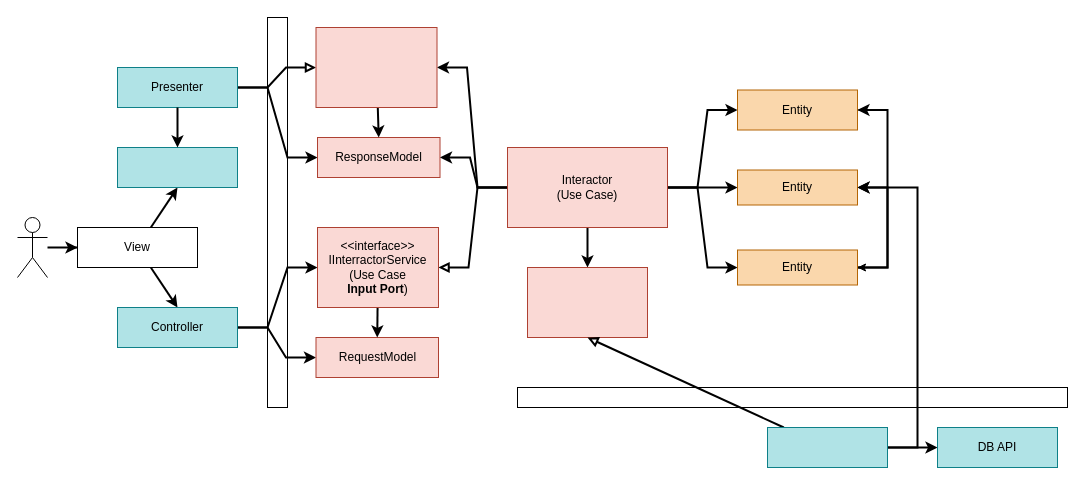
Some shapes in this 1085 by 485 pixel diagram are drawn without their labels. Here are the shapes that lost their labels. From the top down, the centre of each, then its label:
the point at 376,67: <<interface>> IPresenter (Use Case Output Port )
the point at 177,167: ViewModel
the point at 32,247: Actor
the point at 587,302: <<interface>> IEntityGateway (Use Case Output Port )
the point at 827,447: EntityGateway
